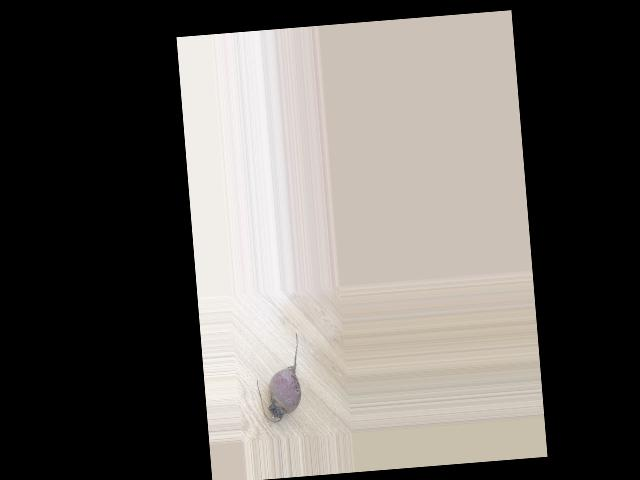beet: (253, 331, 304, 423)
